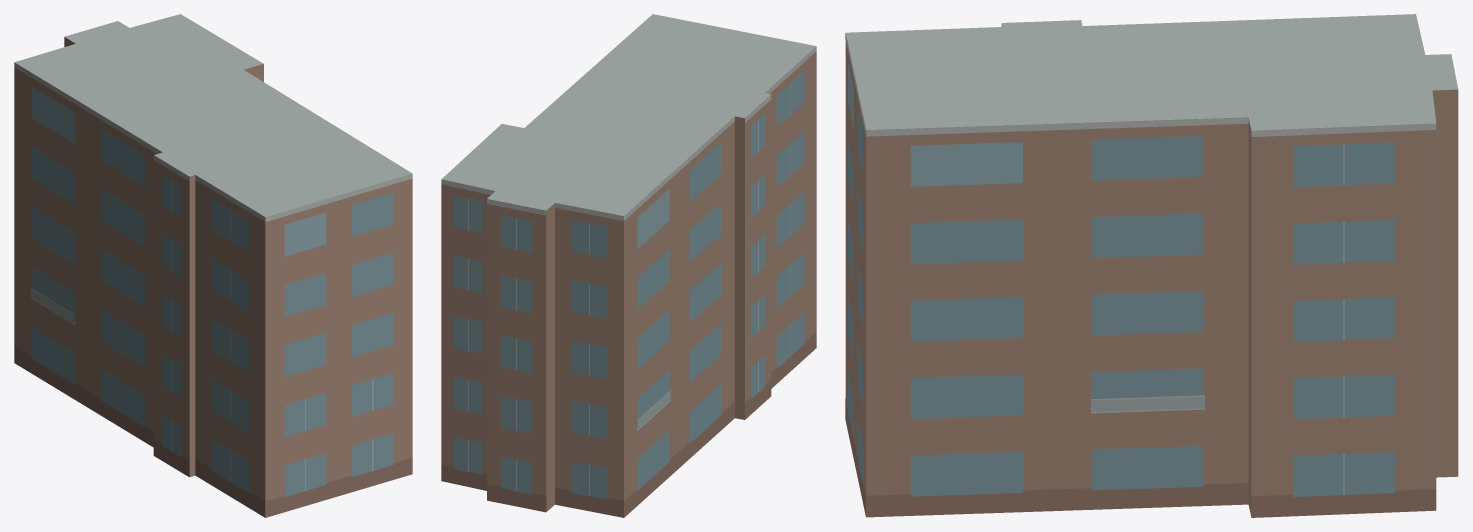
Rendered from survey-upis-32758292.glb.
The picture shows the model from 3 angles, left to right: view 1: azimuth 30°, elevation 25°; view 2: azimuth 150°, elevation 25°; view 3: azimuth 270°, elevation 25°; orthographic projection. The views are drawn at different scales.
Visible parts, largest first — view 1: survey-upis-32758292.tmp; view 2: survey-upis-32758292.tmp; view 3: survey-upis-32758292.tmp.
Part boxes in pixels (x1,y1,x2,y2): survey-upis-32758292.tmp: (14, 14, 412, 517); survey-upis-32758292.tmp: (441, 14, 816, 517); survey-upis-32758292.tmp: (845, 14, 1458, 517).
Size of the model in its own units: 9.48 by 14.65 by 21.02.
